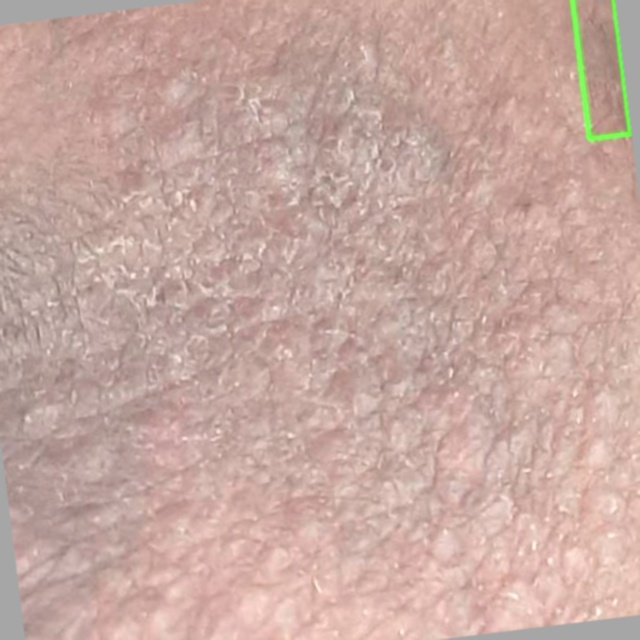Contact Dermatitis: (572, 0, 630, 139)
